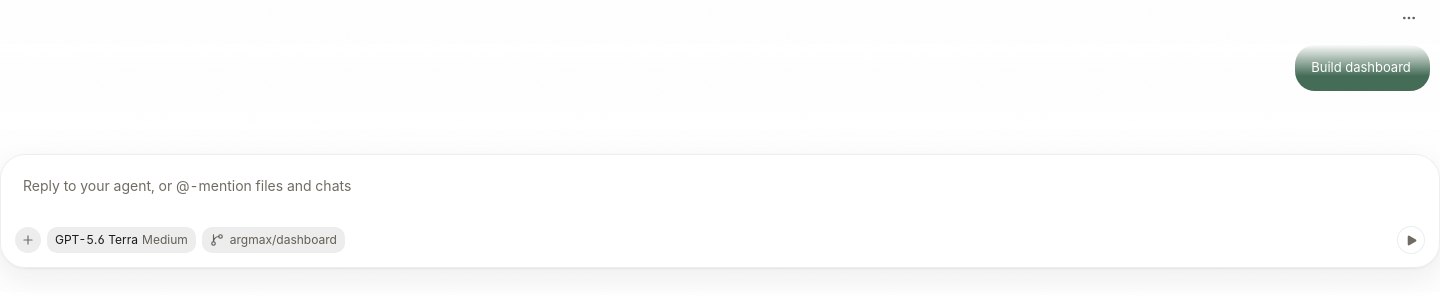
Test: SessionComposer /clear › runs Clear from the slash menu without sending a prompt
Type "/clear" into the text box named "Chat prompt" at {"x": 720, "y": 193}, box top-left (15, 167), bottom-right (1425, 219)
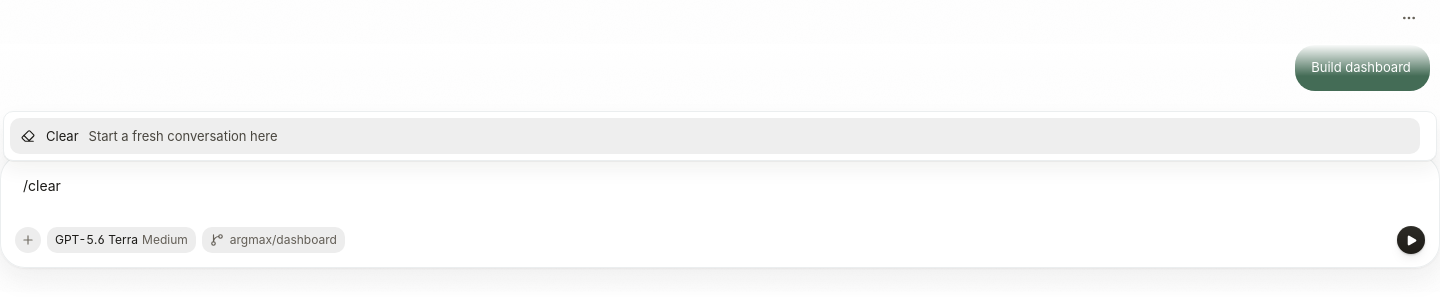
Press the mouse on the option "Clear Start a fresh conversation here" at {"x": 62, "y": 136}, box top-left (10, 118), bottom-right (1420, 154)
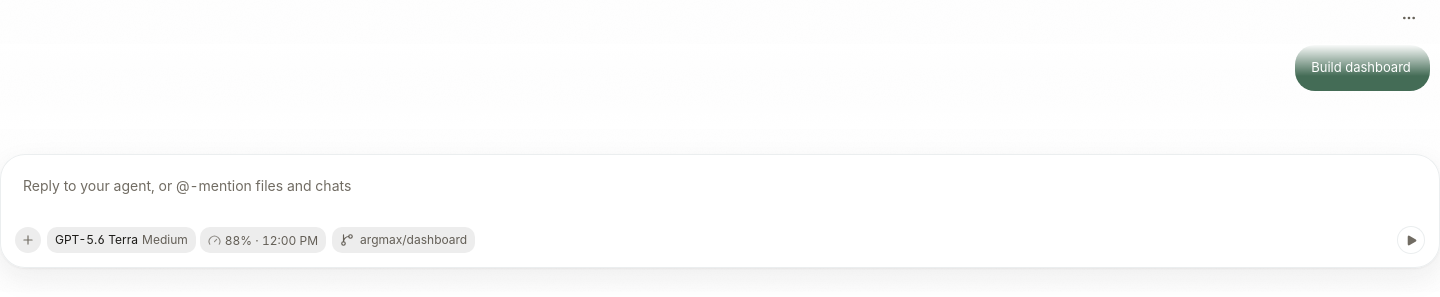
Expected: the text box named "Chat prompt" is empty, top-left (15, 167), bottom-right (1425, 219)
